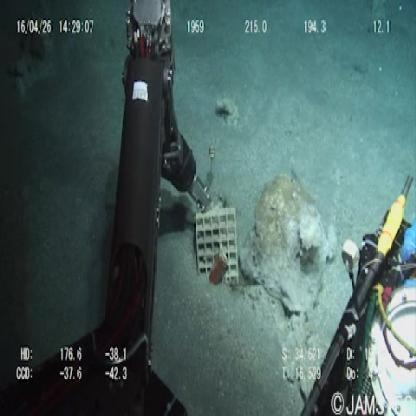Rov: (298, 169, 414, 414), (188, 184, 244, 300)
